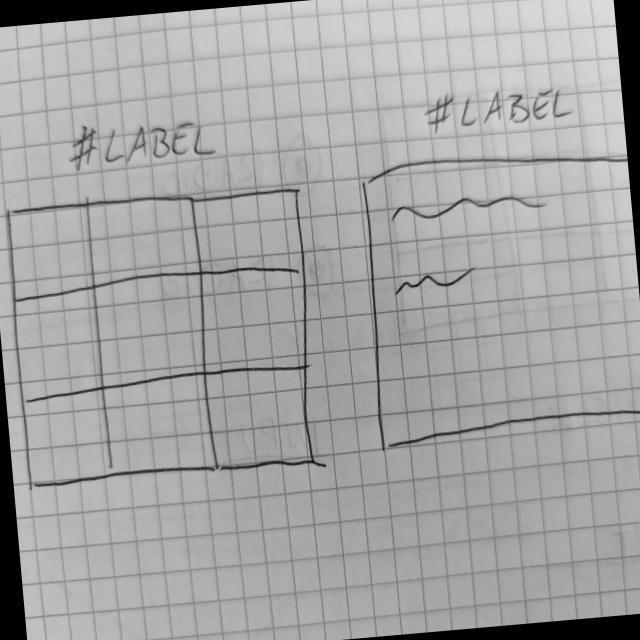label: (66, 109, 220, 179), (423, 77, 578, 136)
table: (1, 181, 330, 497)
textarea: (355, 142, 640, 452)
